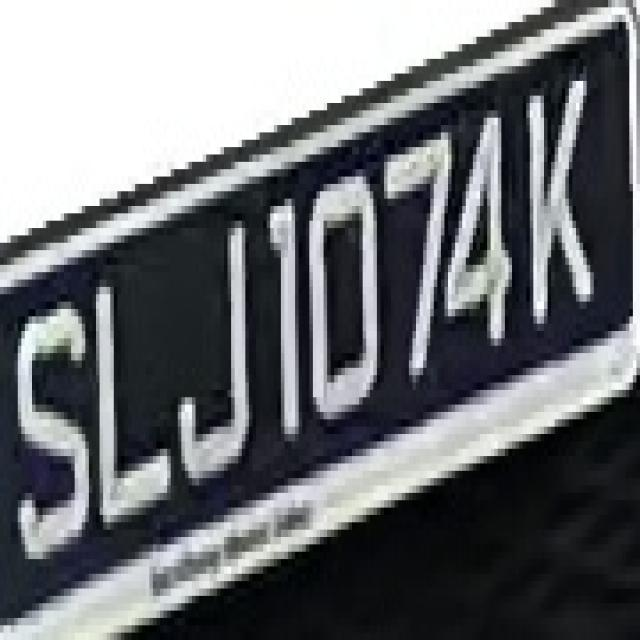0: (298, 155, 381, 456)
1: (256, 184, 306, 485)
4: (434, 103, 516, 368)
7: (377, 125, 462, 412)
J: (163, 206, 249, 478)
K: (512, 51, 597, 346)
L: (89, 250, 178, 552)
S: (11, 287, 85, 574)
